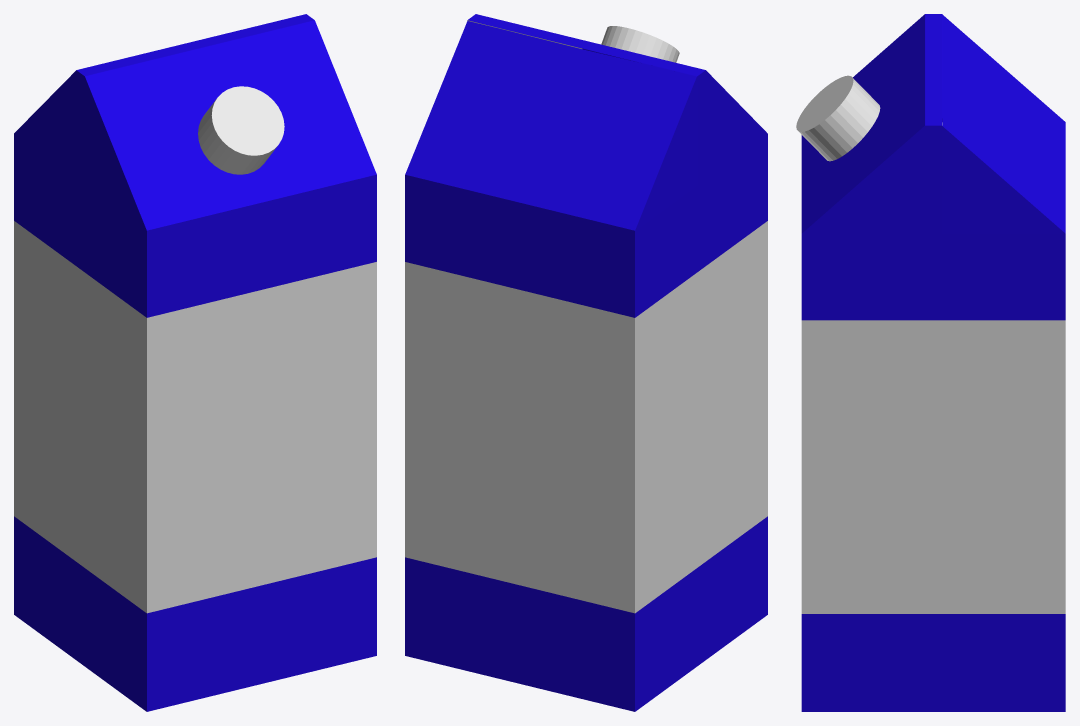
The model's file is goodMilk(1).fbx.
3 renders of one model, left to right at view 1: azimuth 30°, elevation 25°; view 2: azimuth 150°, elevation 25°; view 3: azimuth 270°, elevation 25°, orthographic.
Parts seen in each view (by area): view 1: Cube; view 2: Cube; view 3: Cube.
Part boxes in pixels (x1,y1,x2,y2): Cube: [14, 14, 376, 711]; Cube: [405, 14, 767, 711]; Cube: [796, 14, 1065, 711].
Bounding box in the file's own units: 1175 × 2880 × 1199.
